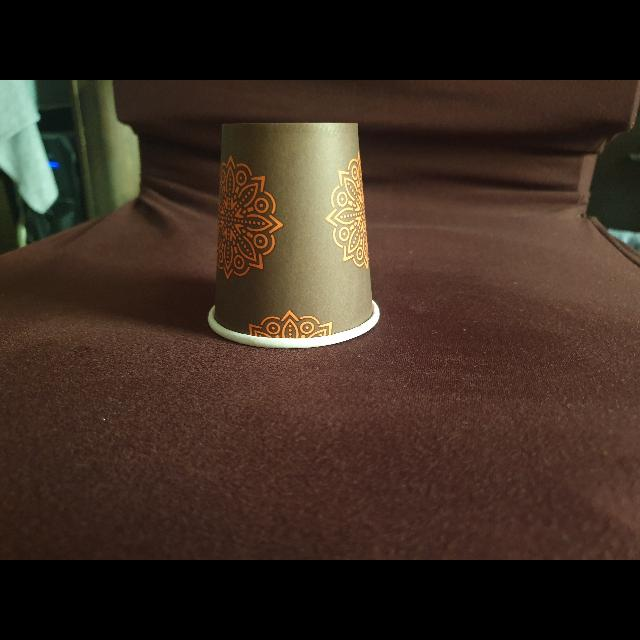trash: (203, 117, 383, 349)
